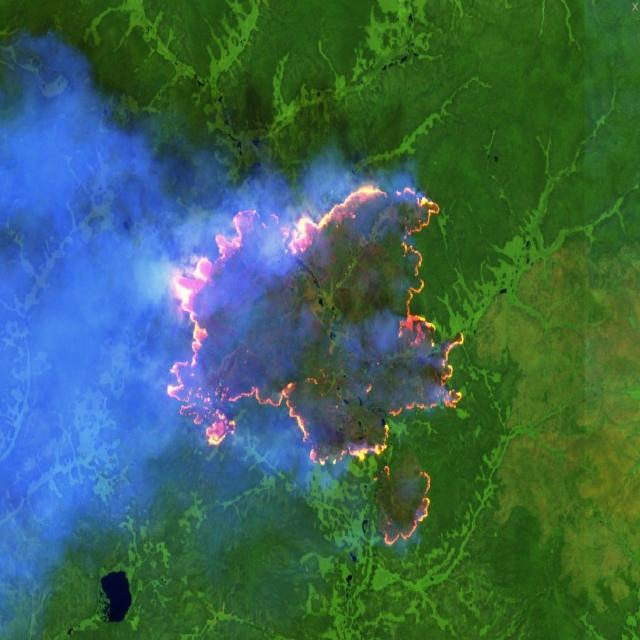fire: (169, 178, 466, 556)
